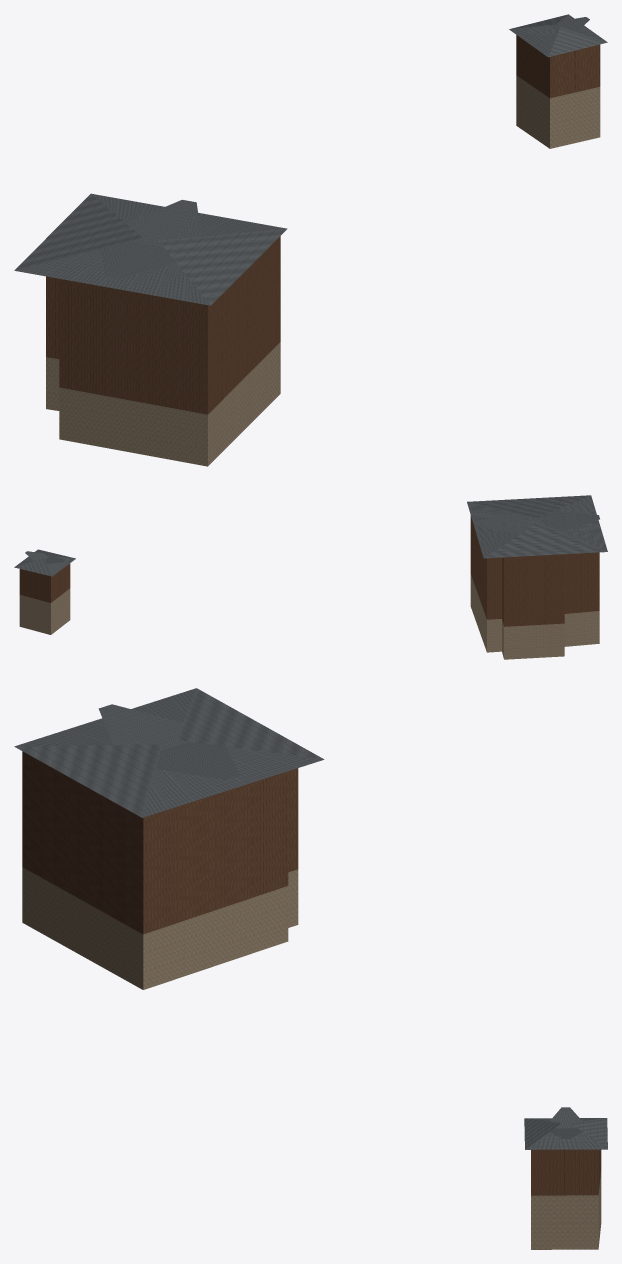
File: bld_c22_44_381.gltf
3 views of the same model, one above another, from view 1: azimuth 30°, elevation 25°; view 2: azimuth 150°, elevation 25°; view 3: azimuth 270°, elevation 25° (orthographic). The views are drawn at different scales.
Parts seen in each view (by area): view 1: bld_c22_44_381; view 2: bld_c22_44_381; view 3: bld_c22_44_381.
Boxes of the visible parts, <box> form: bld_c22_44_381: <box>14,14,607,466</box>; bld_c22_44_381: <box>14,495,607,659</box>; bld_c22_44_381: <box>14,688,607,1249</box>.
Size of the model in its own units: 76.79 by 17.1 by 49.32.
Materials: 3 (3 with a texture image).
